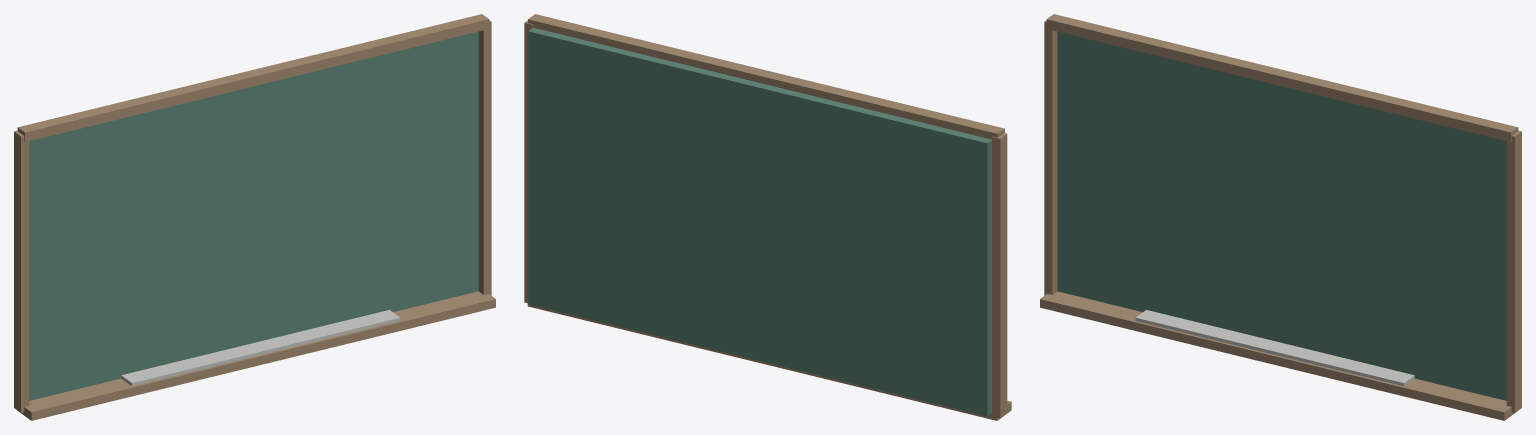
Rendered from CLS-006.glb.
3 renders of one model, left to right at view 1: azimuth 30°, elevation 25°; view 2: azimuth 150°, elevation 25°; view 3: azimuth 330°, elevation 25°, orthographic.
Visible parts, largest first — view 1: 000_Chalkboard, 001_Board_top_trim, 002_Board_bottom_trim, 003_Board_trim, 005_Chalktray, 004_Board_trim; view 2: 000_Chalkboard, 001_Board_top_trim, 003_Board_trim, 004_Board_trim, 002_Board_bottom_trim; view 3: 000_Chalkboard, 001_Board_top_trim, 002_Board_bottom_trim, 004_Board_trim, 005_Chalktray, 003_Board_trim.
Boxes of the visible parts, x1,y1,x2,y2 form: 000_Chalkboard: (29,31,478,400); 001_Board_top_trim: (17,14,489,141); 002_Board_bottom_trim: (18,291,495,420); 003_Board_trim: (14,130,29,412); 005_Chalktray: (121,310,400,386); 004_Board_trim: (478,20,491,295); 000_Chalkboard: (528,27,991,416); 001_Board_top_trim: (528,14,1004,139); 003_Board_trim: (992,133,1007,418); 004_Board_trim: (524,20,533,303); 002_Board_bottom_trim: (527,303,1011,420); 000_Chalkboard: (1057,31,1506,400); 001_Board_top_trim: (1046,14,1518,141); 002_Board_bottom_trim: (1040,291,1517,420); 004_Board_trim: (1506,130,1521,412); 005_Chalktray: (1135,310,1414,386); 003_Board_trim: (1044,20,1057,295).
Size of the model in its own units: 2.28 by 1.31 by 0.1775.
